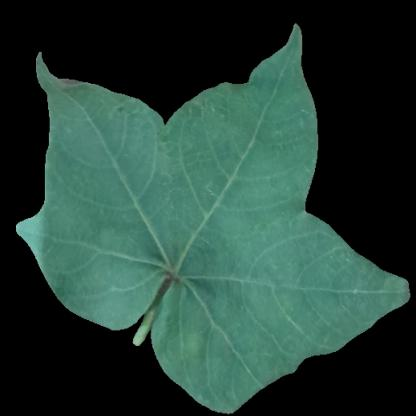healthy: (187, 125, 290, 370), (51, 89, 156, 276), (305, 225, 349, 321)
